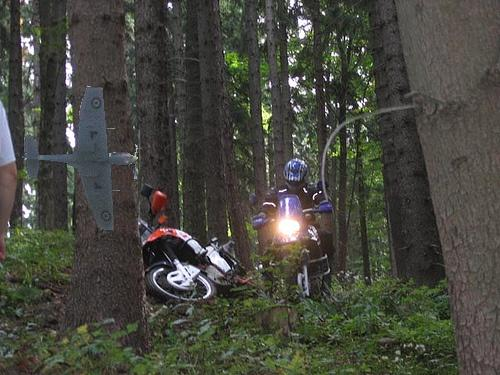tampered: (23, 87, 138, 230)
